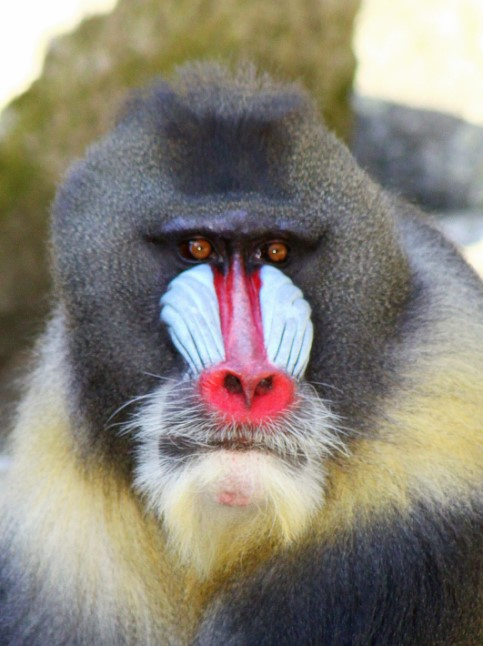Mandrill: (25, 83, 455, 623)
